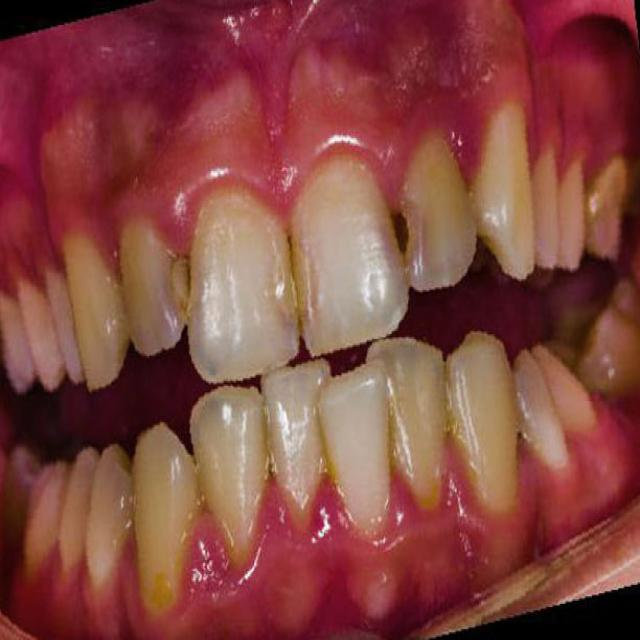caries: (158, 243, 214, 336), (270, 238, 324, 328), (381, 199, 428, 271)
